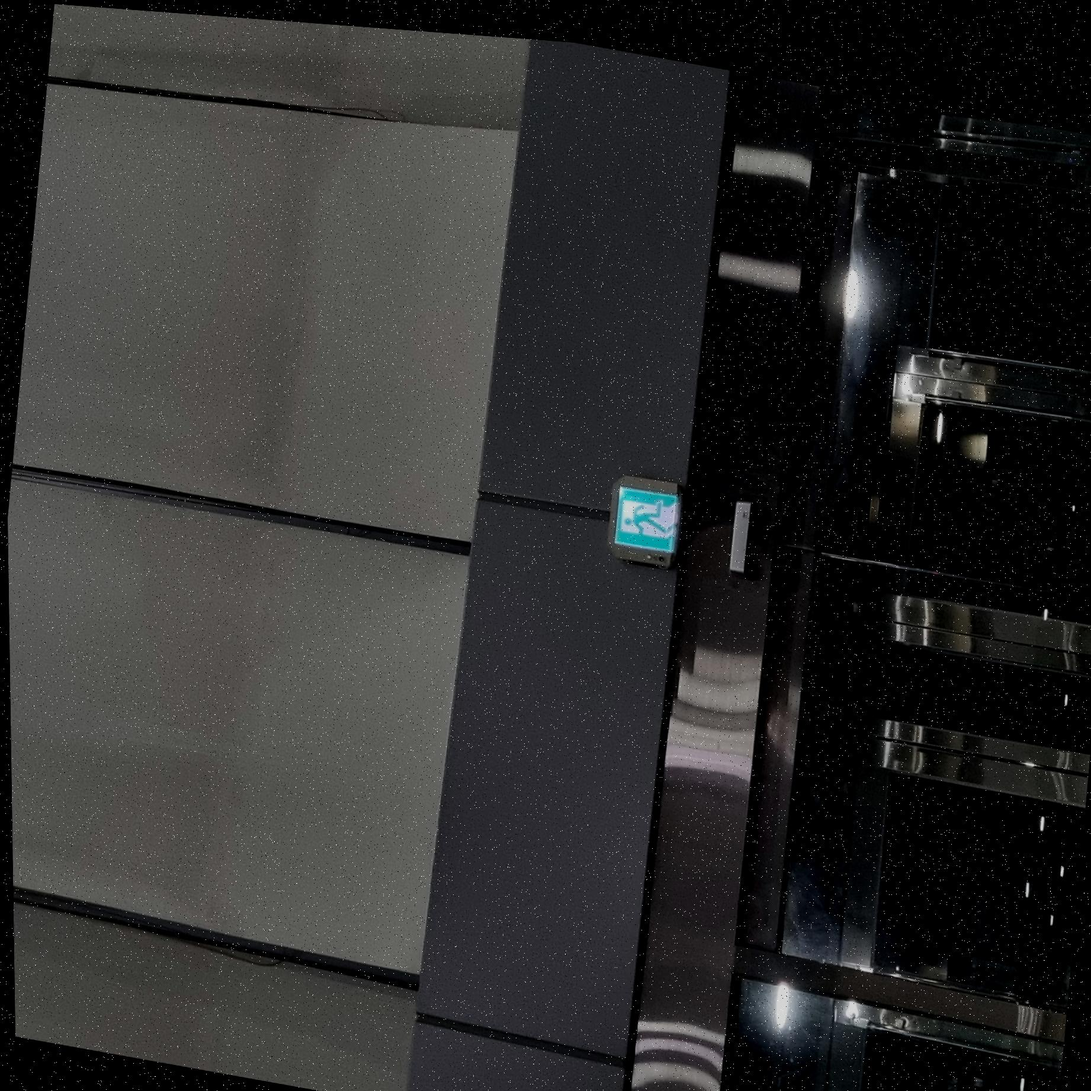emergency_exit: (607, 475, 682, 568)
